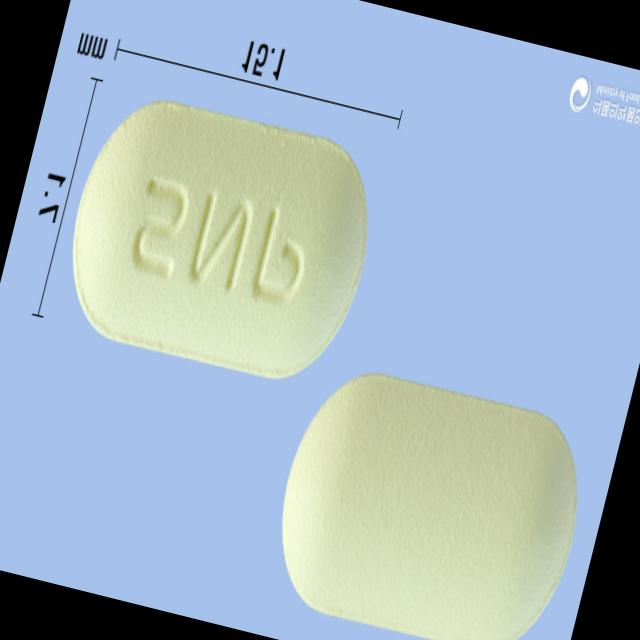A Progen Clarithromycin Tab: (49, 86, 392, 397)
